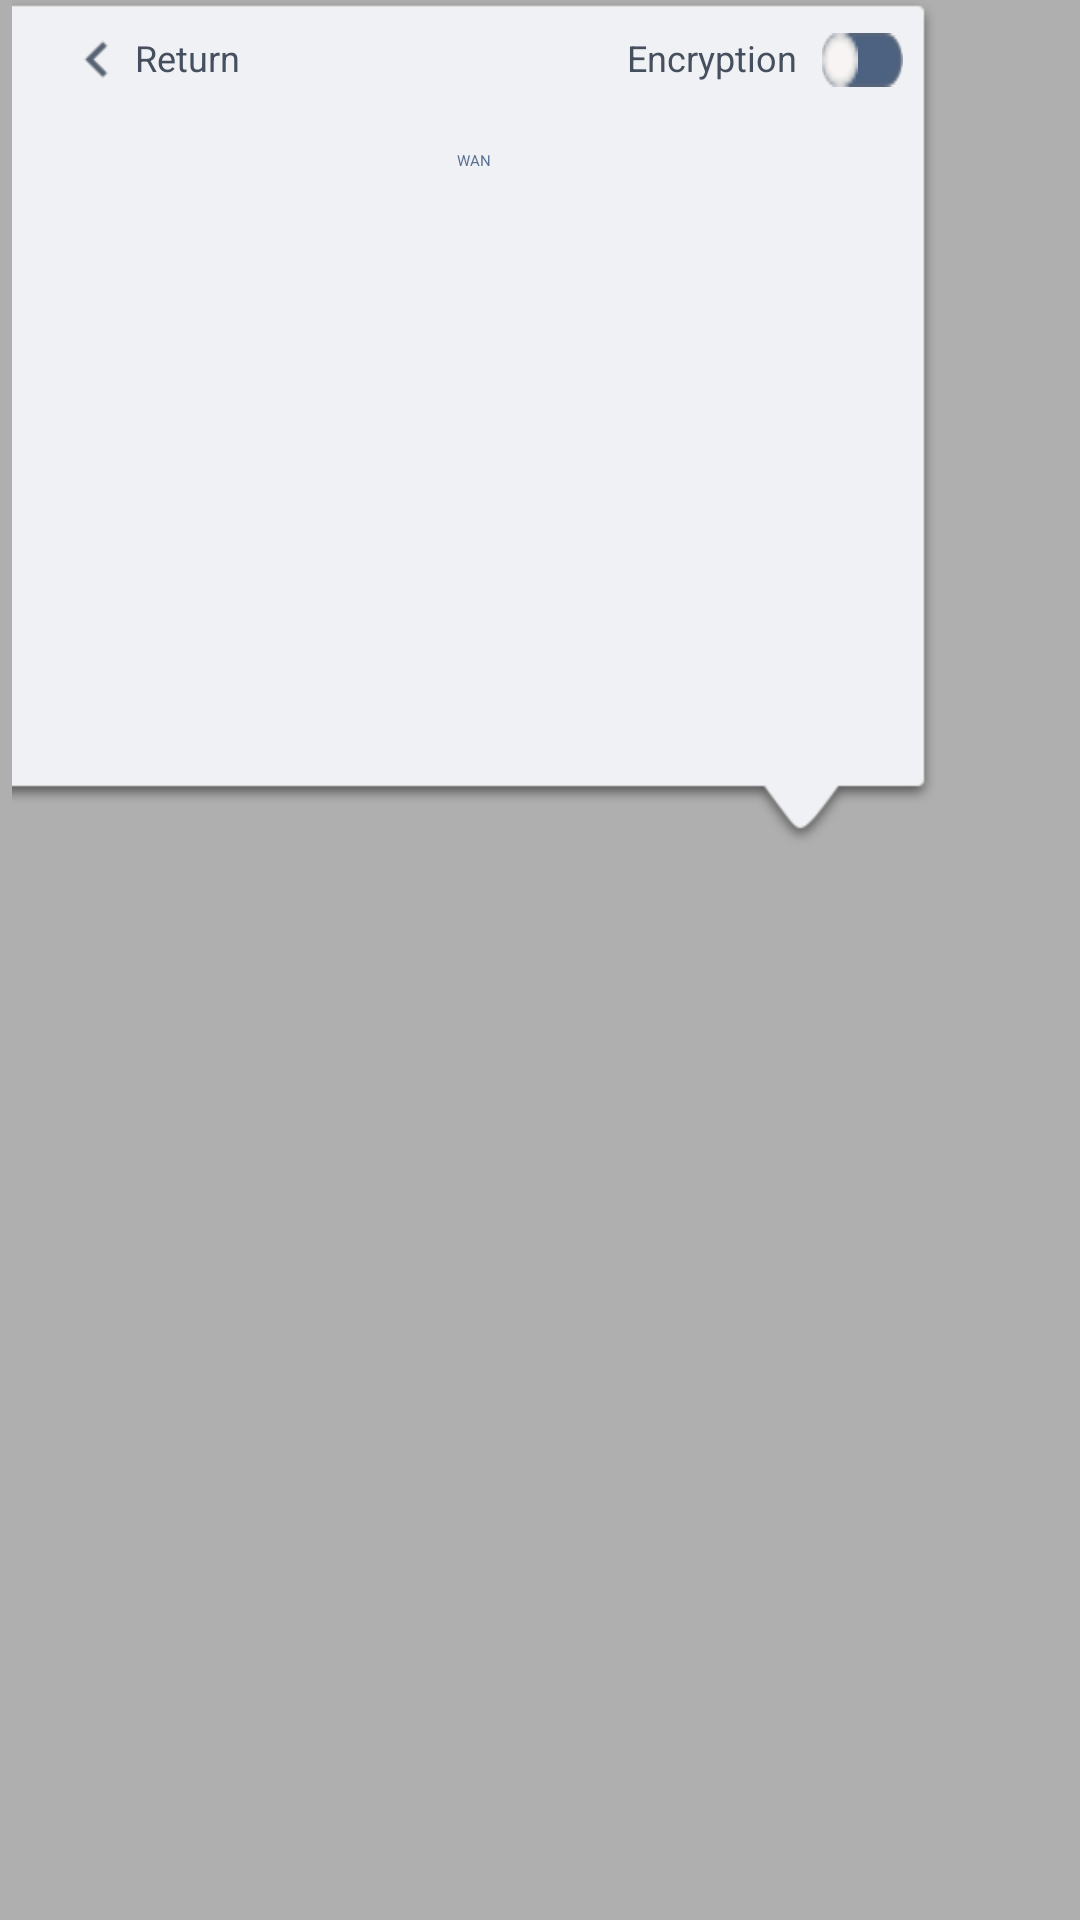

Named icons in this screenshot (1080px×1920px) and their bounding boxes, region(x1, y1, x2, y2):
back: region(85, 41, 108, 78)
